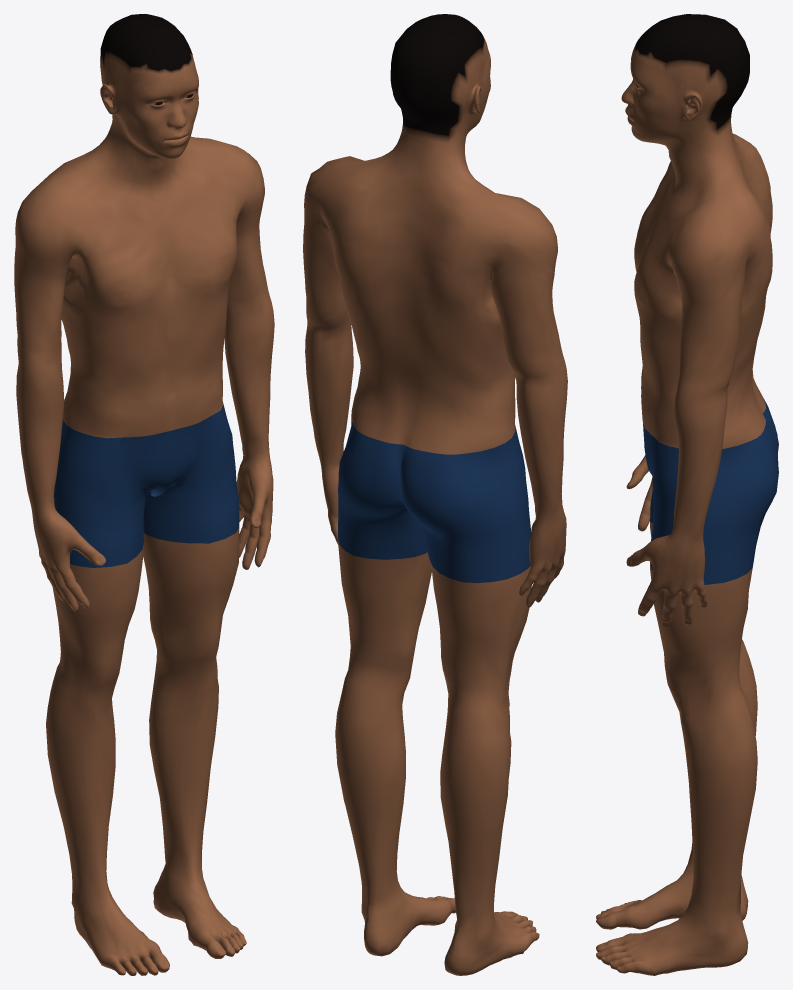
Rendered from patient_m.glb.
3 renders of one model, left to right at view 1: azimuth 30°, elevation 25°; view 2: azimuth 150°, elevation 25°; view 3: azimuth 270°, elevation 25°, orthographic.
Visible parts, largest first — view 1: patient; view 2: patient; view 3: patient.
Part boxes in pixels (<box>): patient: <box>14,14,274,975</box>; patient: <box>303,14,567,975</box>; patient: <box>596,14,778,975</box>.
Size of the model in its own units: 0.4996 by 1.75 by 0.313.
